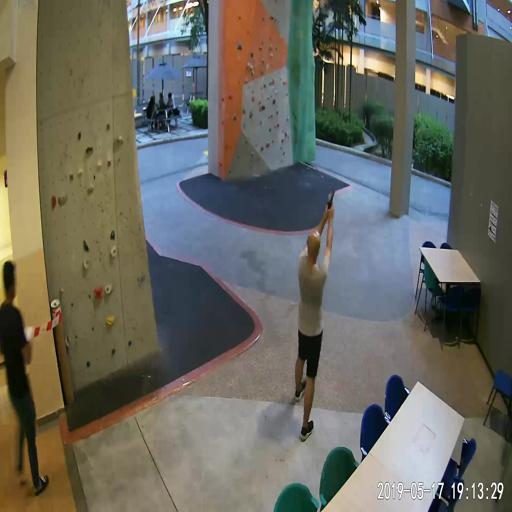pistol: (326, 189, 334, 211)
